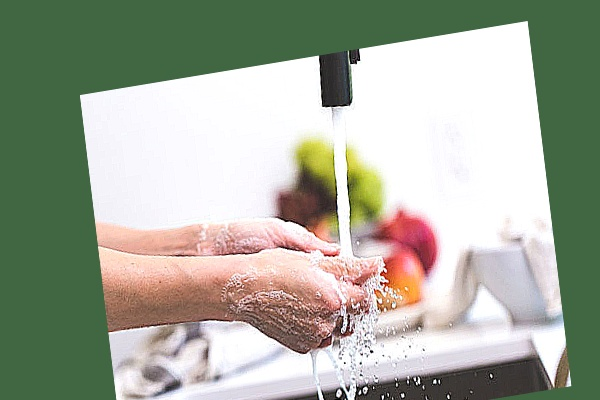washing hand: (140, 49, 480, 384)
